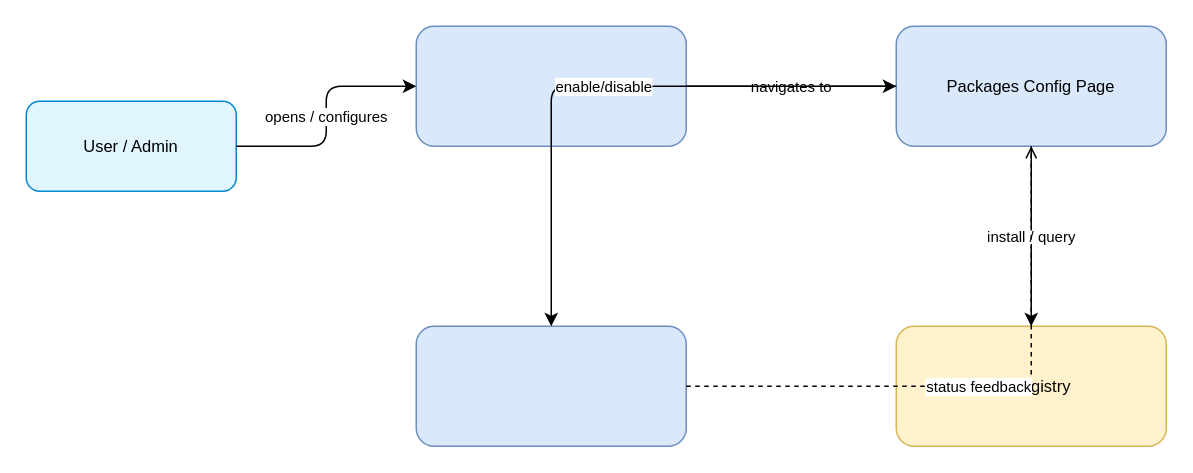
Image size: 1193x473. Some labels were removed from this diagram. The centre of each missing label's shape, as x and y in pixels:
"Pi Extension Host" goes at point 550,385.
"Settings Panel" goes at point 550,85.
